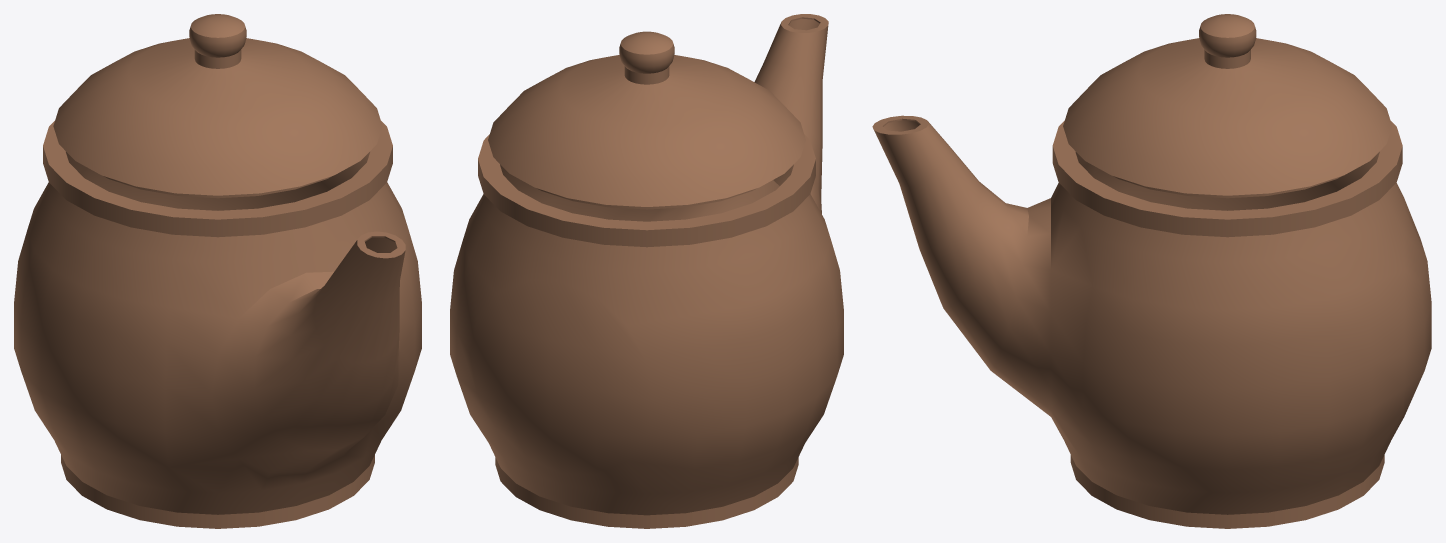
File: chainik.fbx
3 renders of one model, left to right at view 1: azimuth 30°, elevation 25°; view 2: azimuth 150°, elevation 25°; view 3: azimuth 270°, elevation 25°, orthographic. The views are drawn at different scales.
Parts seen in each view (by area): view 1: Cylinder, Cylinder.001; view 2: Cylinder, Cylinder.001; view 3: Cylinder, Cylinder.001.
Boxes of the visible parts, x1,y1,x2,y2 form: Cylinder: (14,121,421,528); Cylinder.001: (53,14,382,198); Cylinder: (450,14,843,528); Cylinder.001: (488,31,805,209); Cylinder: (872,115,1431,528); Cylinder.001: (1063,14,1392,198).
Size of the model in its own units: 1.46 by 1.75 by 2.01.
